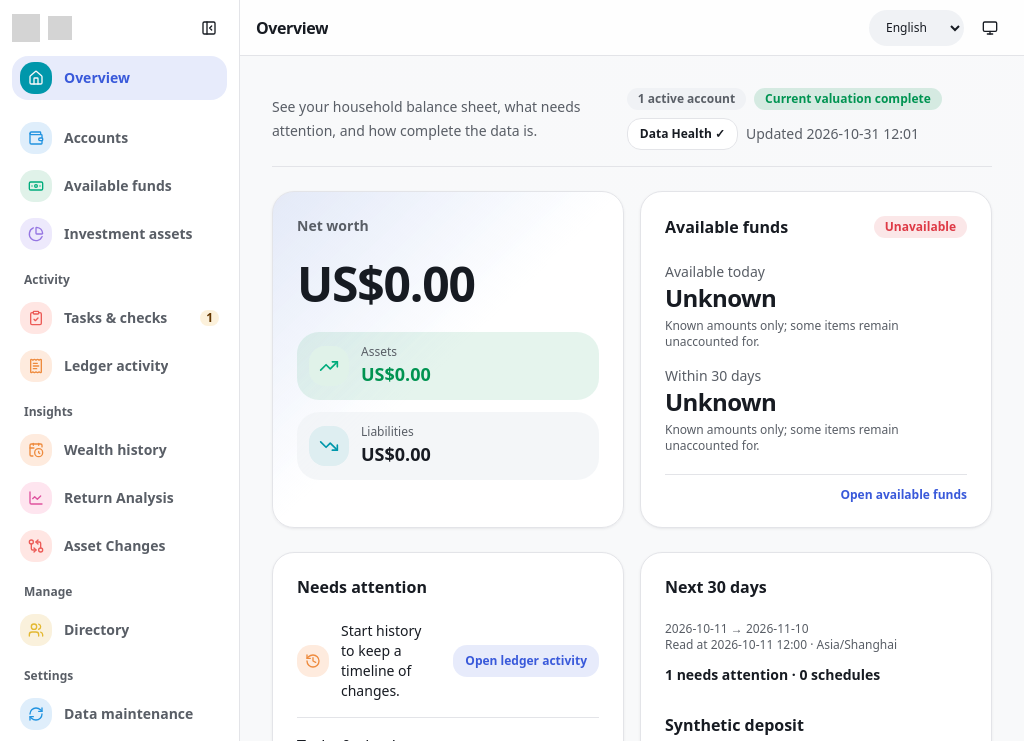
App shell smoke test › returns from market health to market data with the navigation trail intact
The width and height of the screenshot is (1024, 741).
Expected: the text with test id "overview-net-worth" is shown, left=297, top=251, right=475, bottom=316
What coordinates should you click on to do the following:
click the button "Data maintenance"
I would click on:
 (120, 714)
Its box is left=12, top=692, right=227, bottom=736.
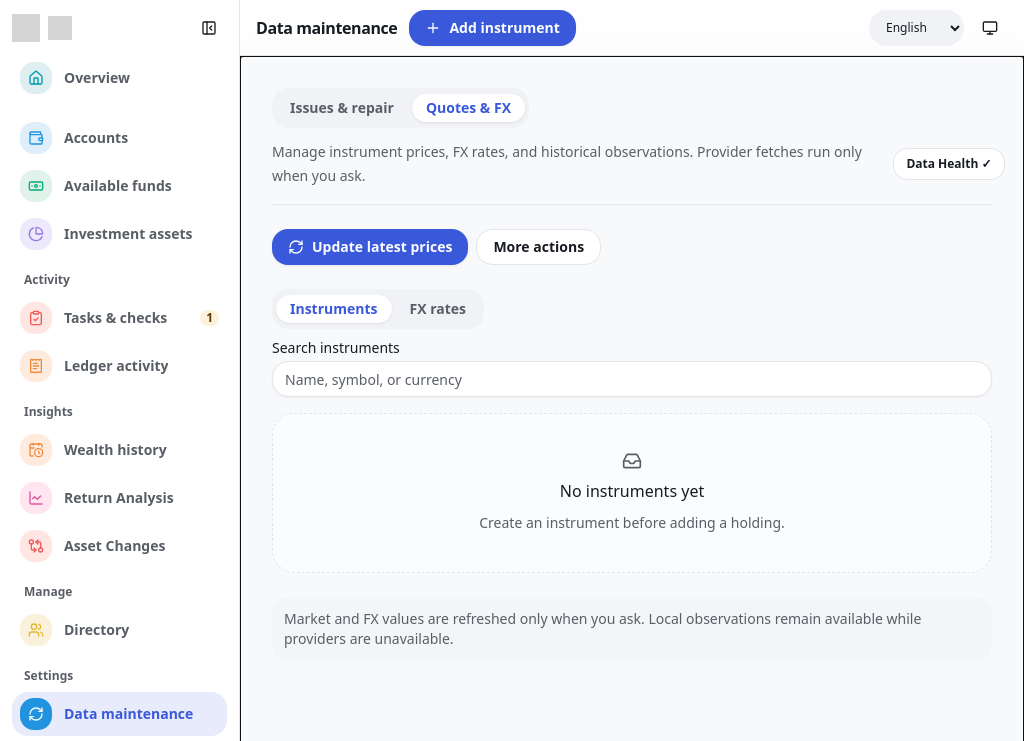
What coordinates should you click on to do the following:
click the button with test id "data-health-indicator"
I would click on:
 (949, 164)
Its box is left=893, top=148, right=1005, bottom=180.
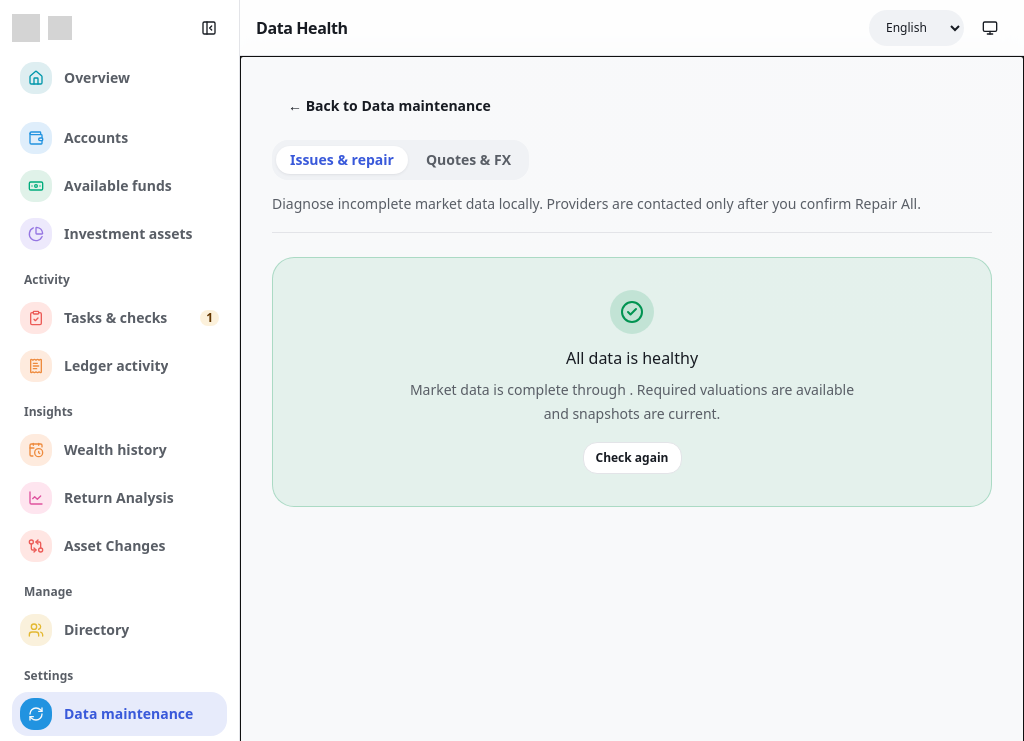
Expected: the element with test id "data-health-page" is shown, left=272, top=192, right=992, bottom=507
What coordinates should you click on to do the following:
click the button "← Back to Data maintenance"
I would click on:
 (389, 106)
Its box is left=272, top=88, right=507, bottom=124.
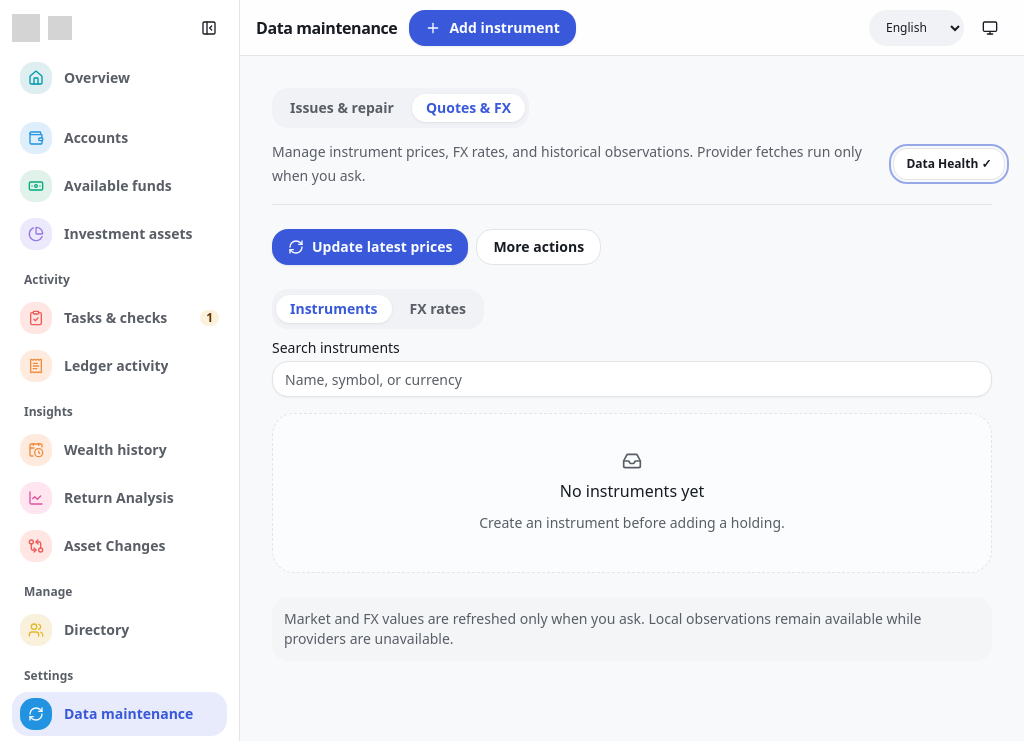
Expected: the button with test id "data-health-indicator" is shown, left=893, top=148, right=1005, bottom=180
